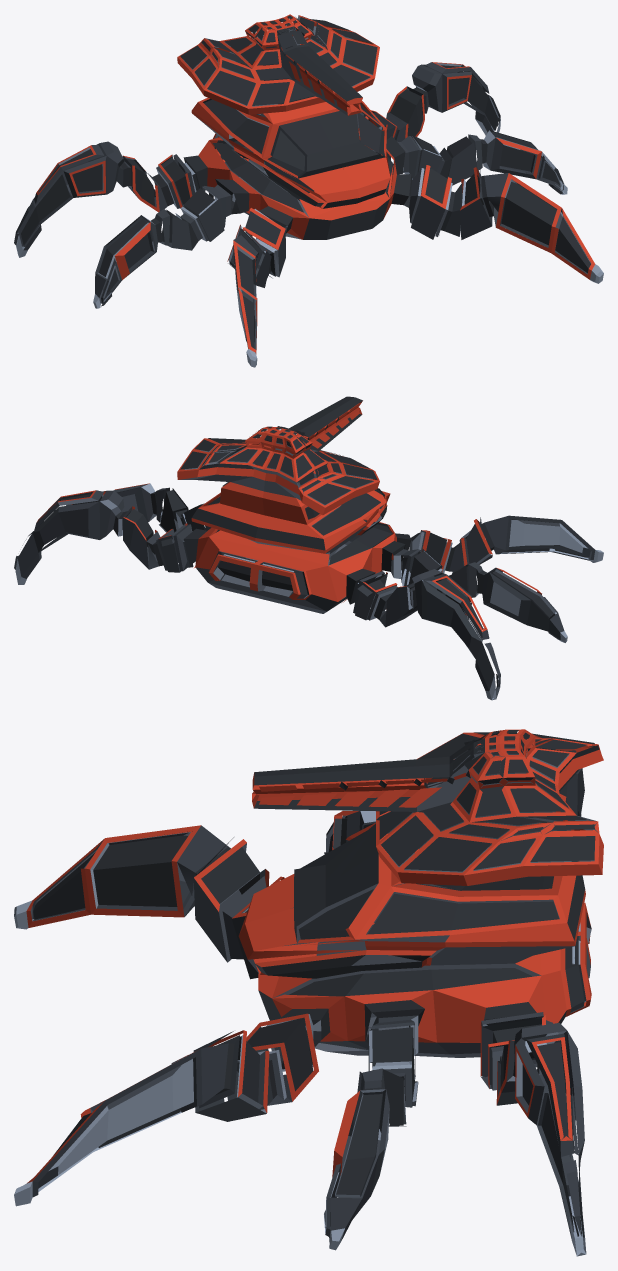
The model's file is brute_spider.glb.
The picture shows the model from 3 angles, top to bottom: view 1: azimuth 30°, elevation 25°; view 2: azimuth 150°, elevation 25°; view 3: azimuth 270°, elevation 25°; orthographic projection. The views are drawn at different scales.
Visible parts, largest first — view 1: Object_4; view 2: Object_4; view 3: Object_4.
Part boxes in pixels (x1,y1,x2,y2): Object_4: [14, 14, 603, 367]; Object_4: [14, 396, 603, 700]; Object_4: [14, 729, 603, 1256].
Size of the model in its own units: 2.05 by 0.7906 by 1.3.
Materials: 1 (1 with a texture image).
